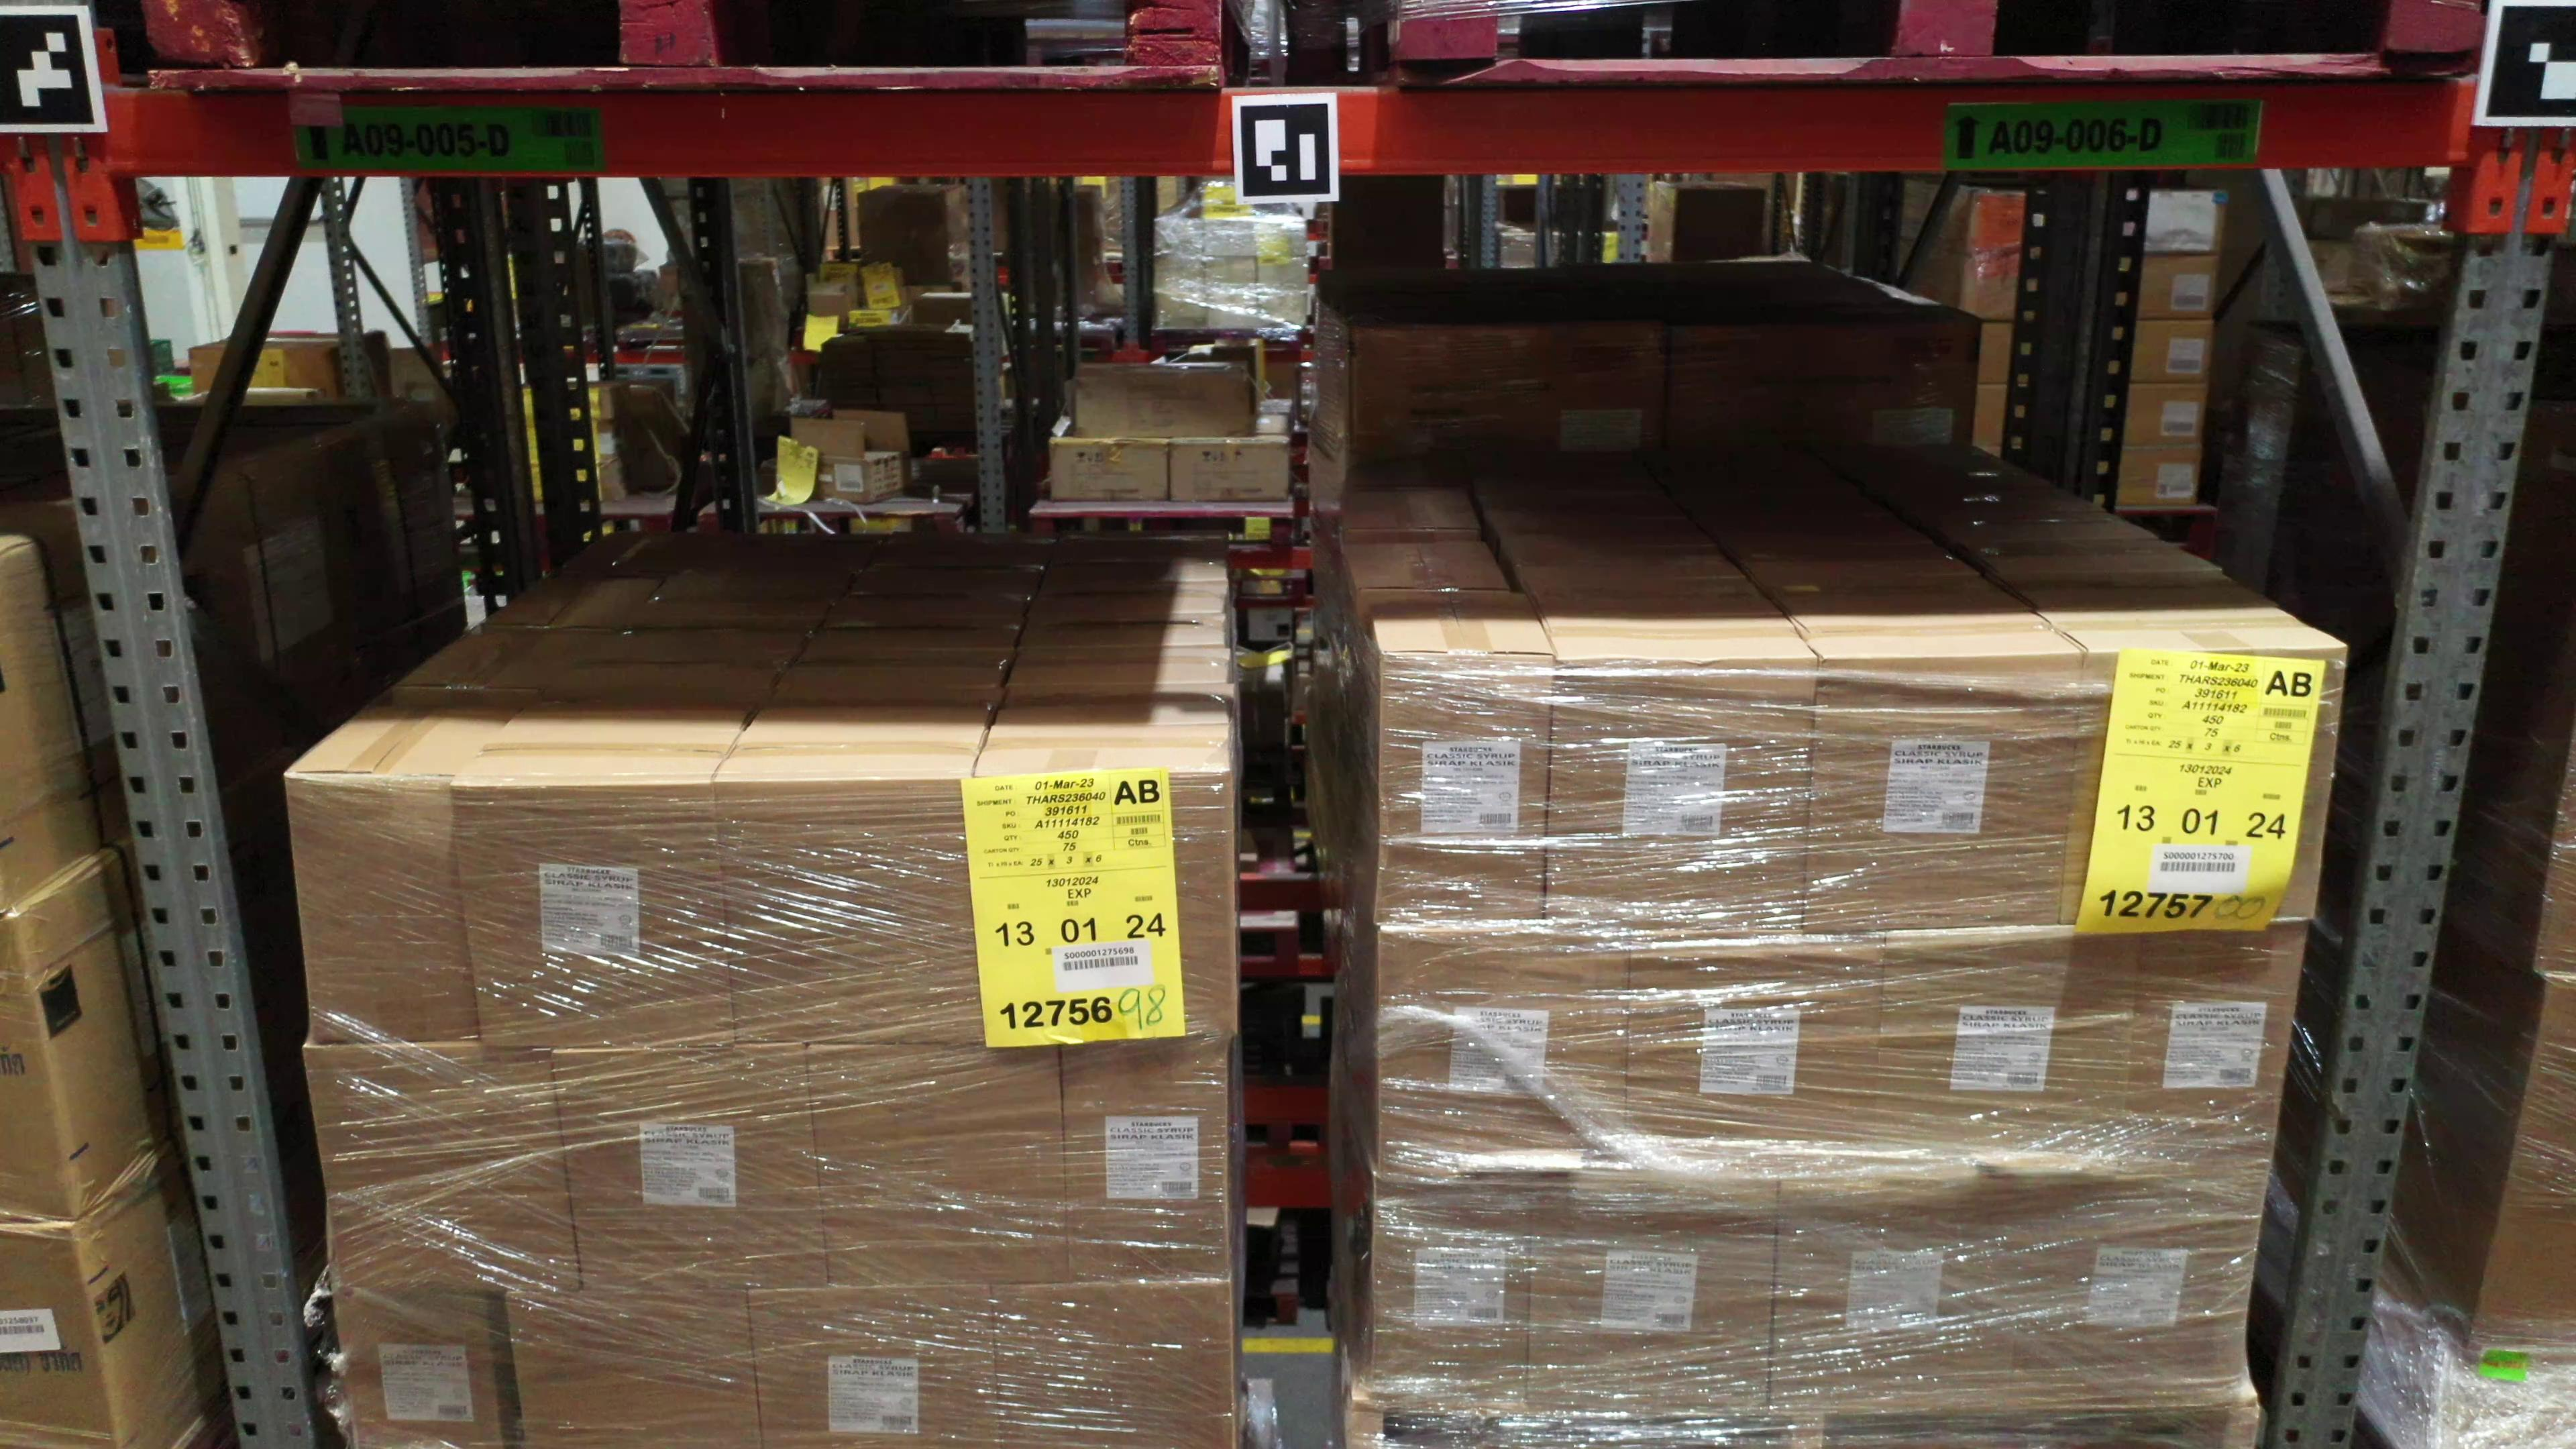-: (2063, 644, 2350, 929), (1799, 653, 2086, 936), (1546, 658, 1815, 943), (456, 782, 738, 1053), (711, 782, 985, 1046), (975, 777, 1237, 1046), (303, 1047, 584, 1293), (556, 1044, 832, 1293), (807, 1037, 1070, 1290), (1766, 1166, 2024, 1415), (2010, 1155, 2272, 1399), (1874, 934, 2143, 1169), (1626, 945, 1888, 1178), (1380, 936, 1629, 1180), (1532, 1180, 1780, 1415), (283, 770, 478, 1046), (2118, 920, 2312, 1166), (1376, 655, 1553, 924), (1060, 1037, 1235, 1284), (2463, 978, 2576, 1355), (993, 1283, 1240, 1449), (752, 1290, 1008, 1449), (506, 1293, 766, 1449), (1364, 1184, 1534, 1410), (0, 1230, 120, 1449), (336, 1293, 504, 1449), (2, 916, 74, 1226)
